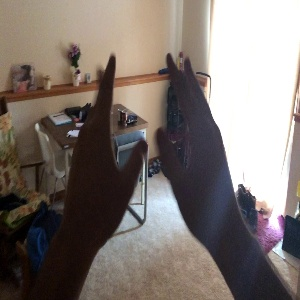hand: (155, 53, 243, 223), (63, 55, 148, 228)
